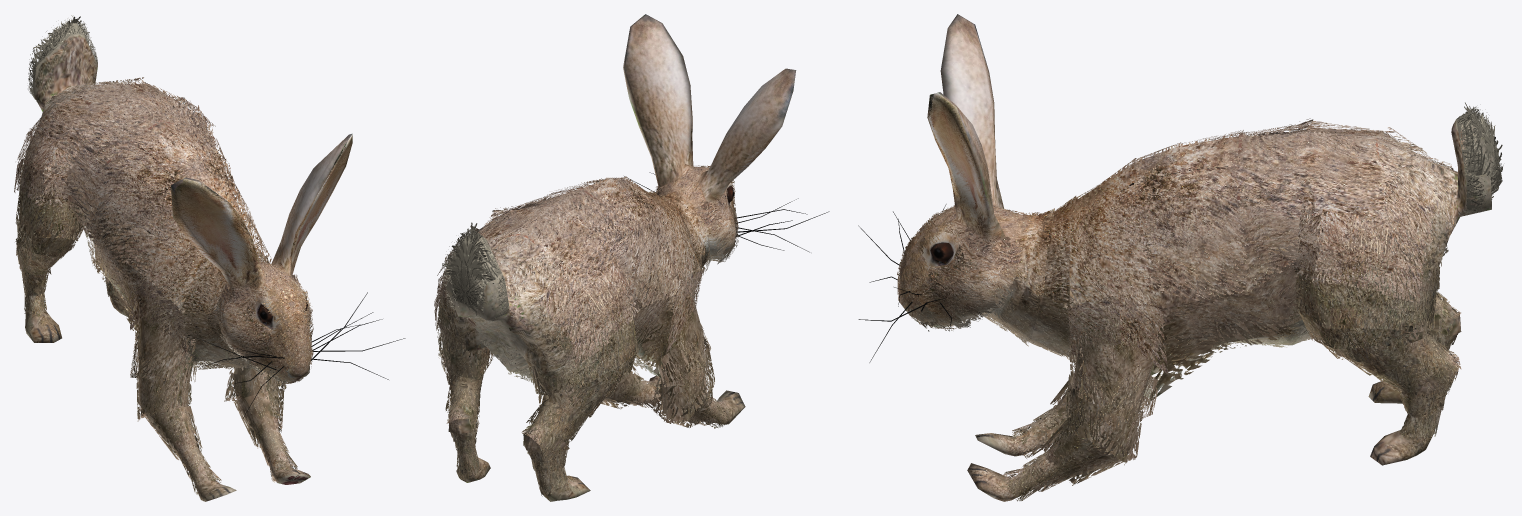
Rendered from rabbit20025.obj.
3 renders of one model, left to right at view 1: azimuth 30°, elevation 25°; view 2: azimuth 150°, elevation 25°; view 3: azimuth 270°, elevation 25°, orthographic. The views are drawn at different scales.
Parts seen in each view (by area): view 1: Rabbit, Fur; view 2: Rabbit, Fur; view 3: Rabbit, Fur.
Boxes of the visible parts, <box> form: Rabbit: <box>17,34,405,501</box>; Fur: <box>14,15,313,494</box>; Rabbit: <box>440,14,829,501</box>; Fur: <box>434,165,738,496</box>; Rabbit: <box>858,14,1498,501</box>; Fur: <box>897,102,1503,501</box>.
Bounding box in the file's own units: 7.84 × 13.9 × 19.1.
